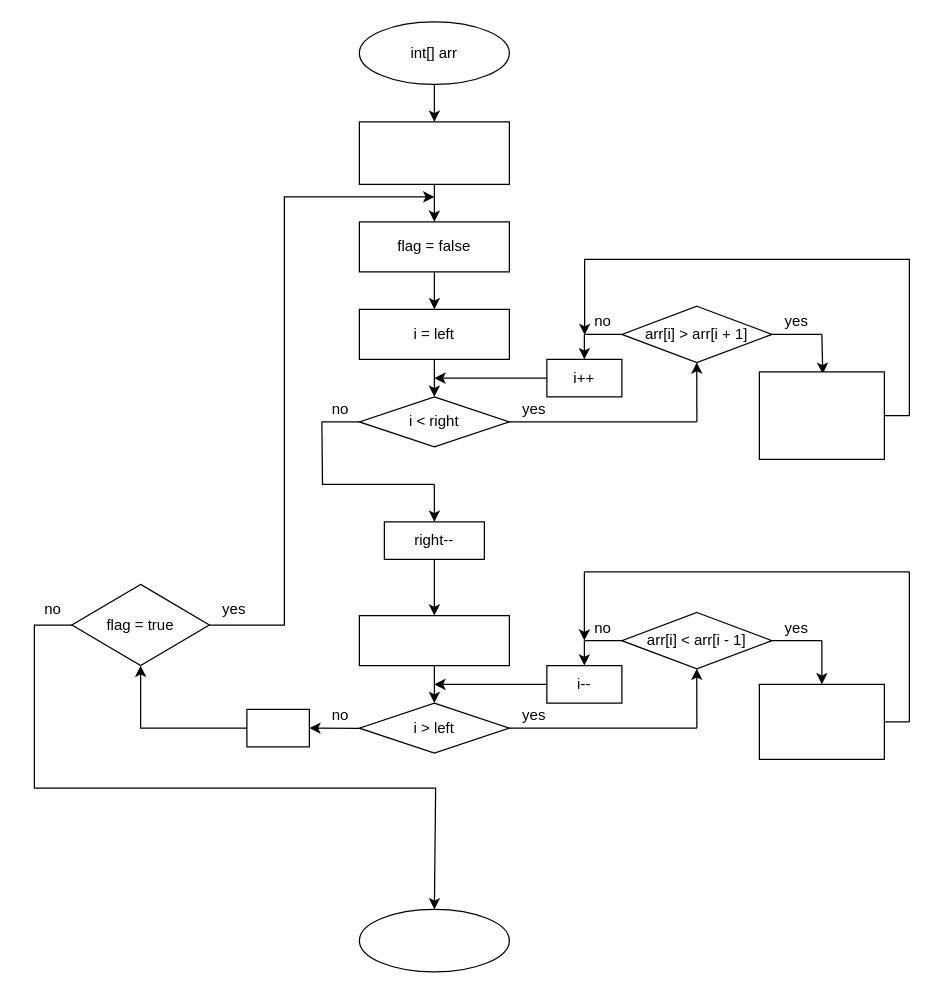
Some shapes in this 941 by 994 pixel diagram are drawn without their labels. The shapes that lost their labels are listed below. From the top down, each one's centre as x and y in pixels, then its label:
At point 433,152: "left = 0 right = arr.length - 1".
At point 821,415: "box = arr[i] arr[i] = arr[i + 1] arr[i + 1] = box flag = true".
At point 433,640: "i = right".
At point 277,727: "left++".
At point 821,721: "box = arr[i] arr[i] = arr[i - 1] arr[i - 1] = box flag = true".
At point 433,940: "return arr".
